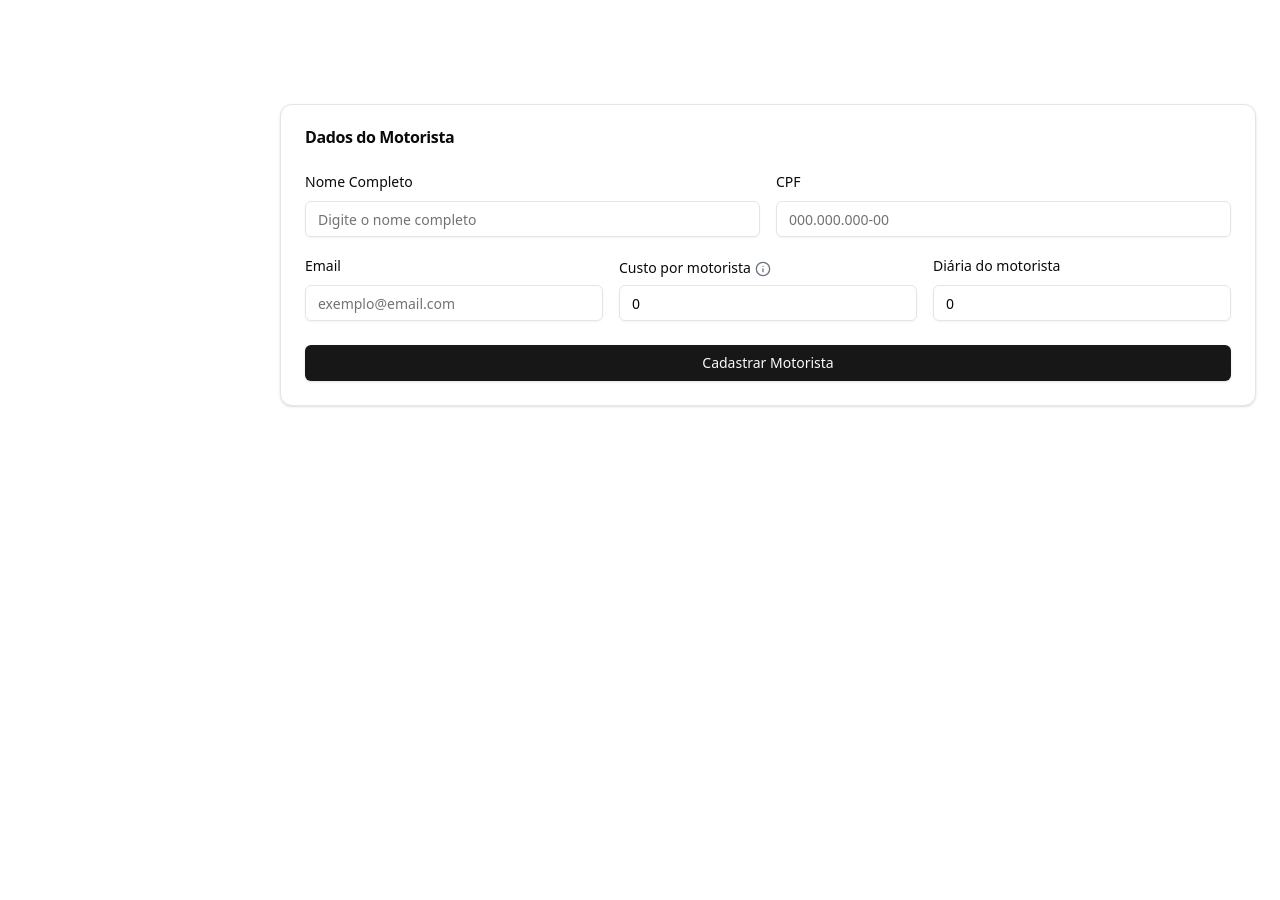
Test: DriverRegistrationForm › mostra erro se custo do motorista for zero
This screenshot has width=1280, height=900.
In the field labelled "Nome Completo": (532, 219) [305, 201, 760, 237], type "Ana"
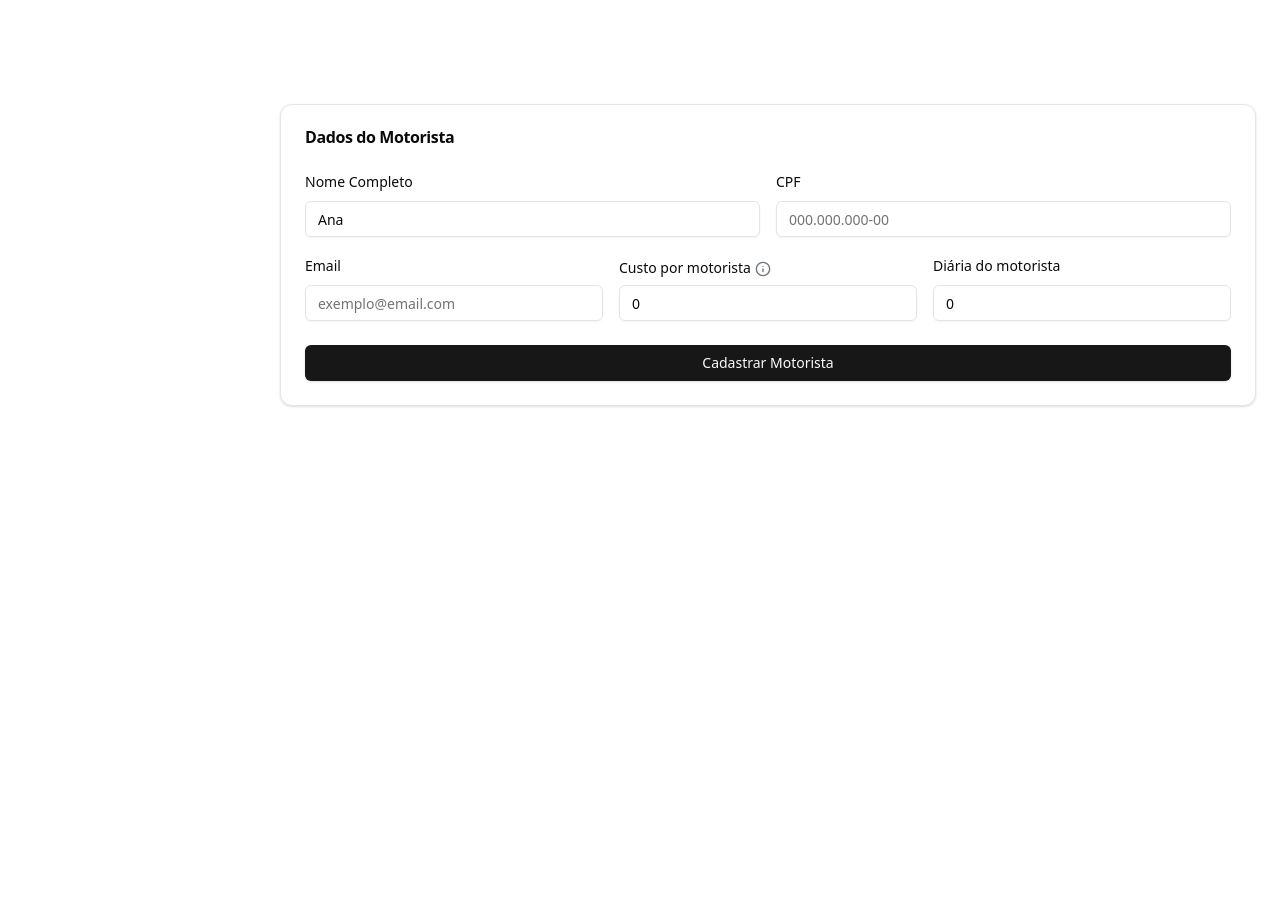
In the field labelled "CPF": (1004, 219) [776, 201, 1231, 237], type "12345678901"
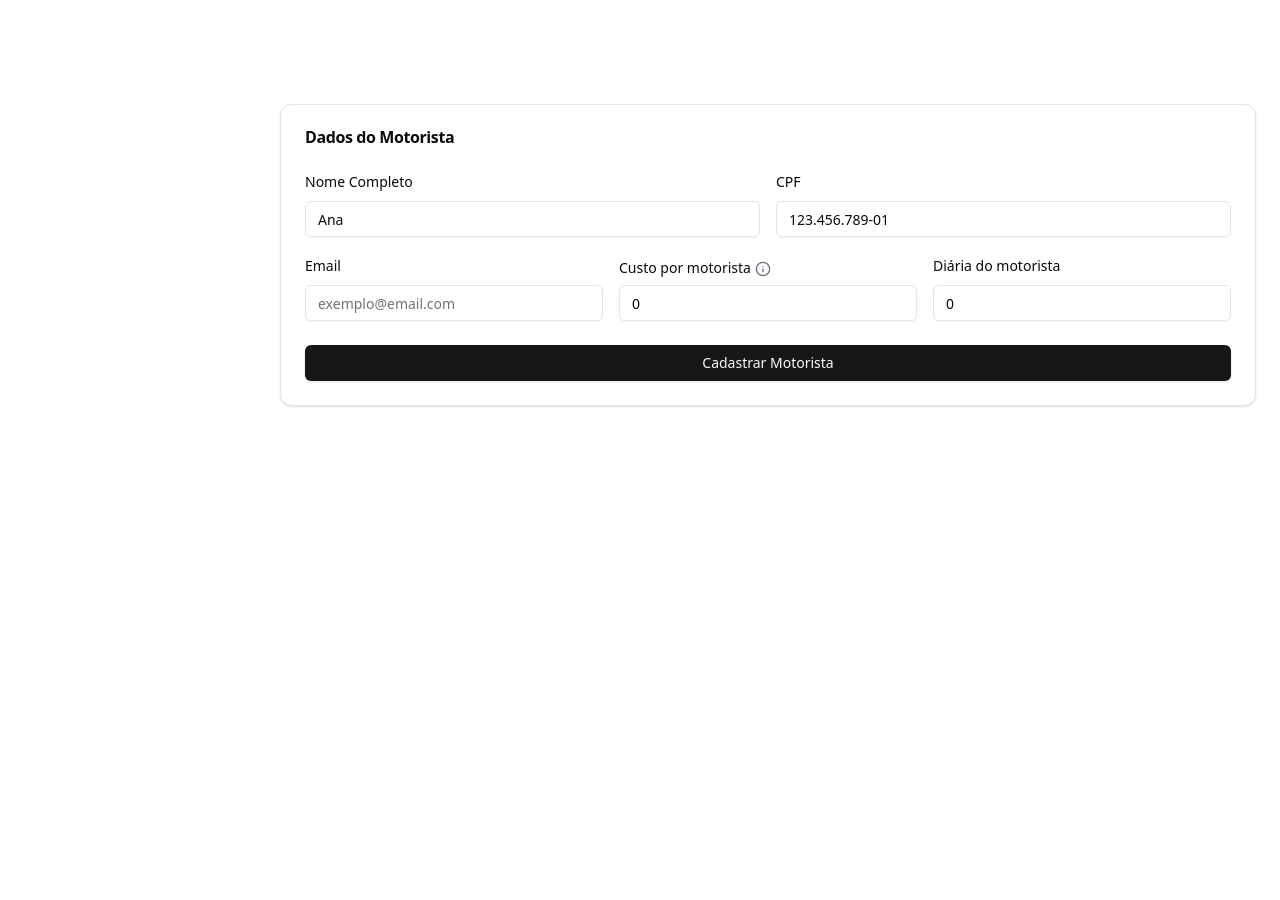
In the field labelled "Email": (454, 303) [305, 285, 603, 321], type "ana@email.com"
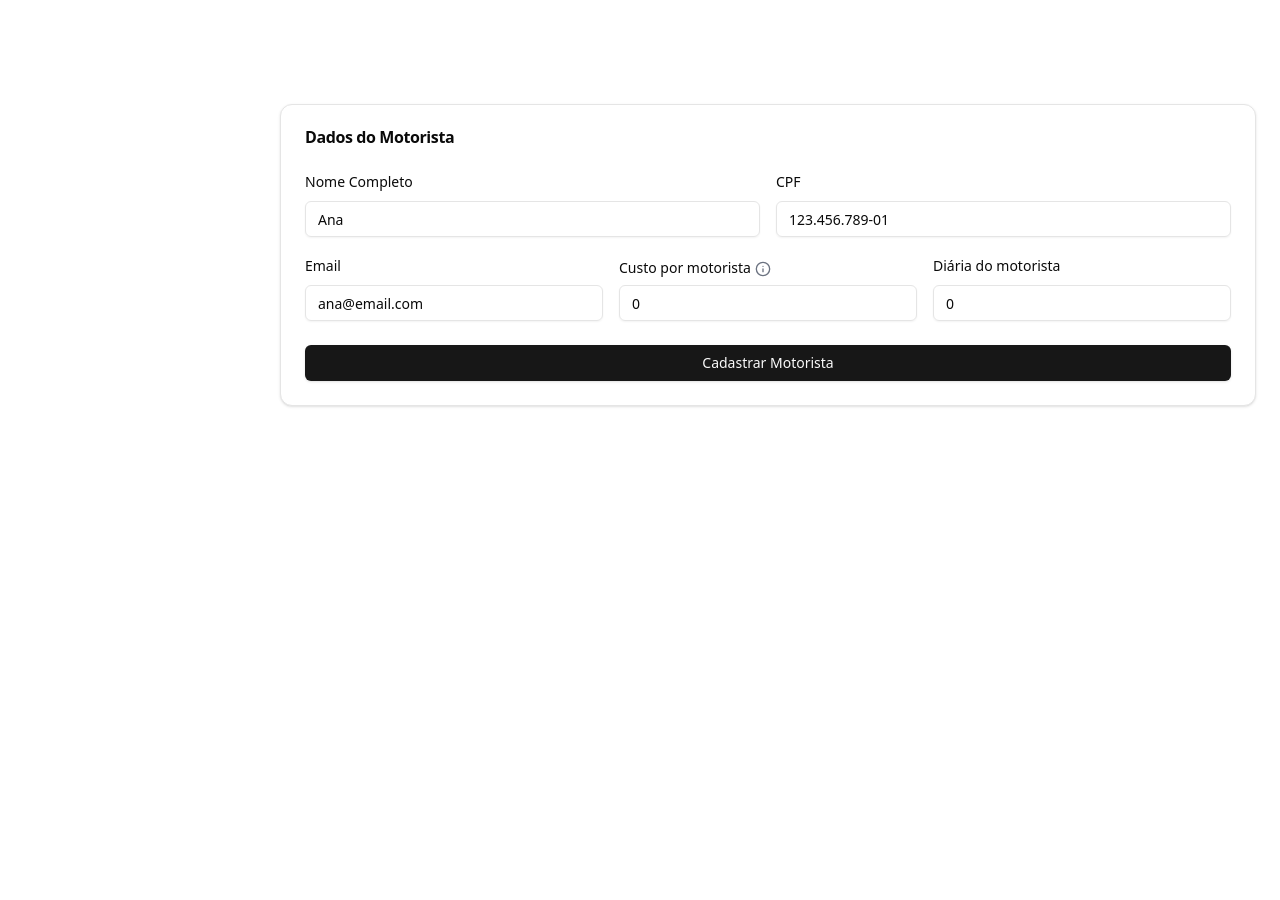
Click the button "Cadastrar Motorista": (768, 363) [305, 345, 1231, 381]
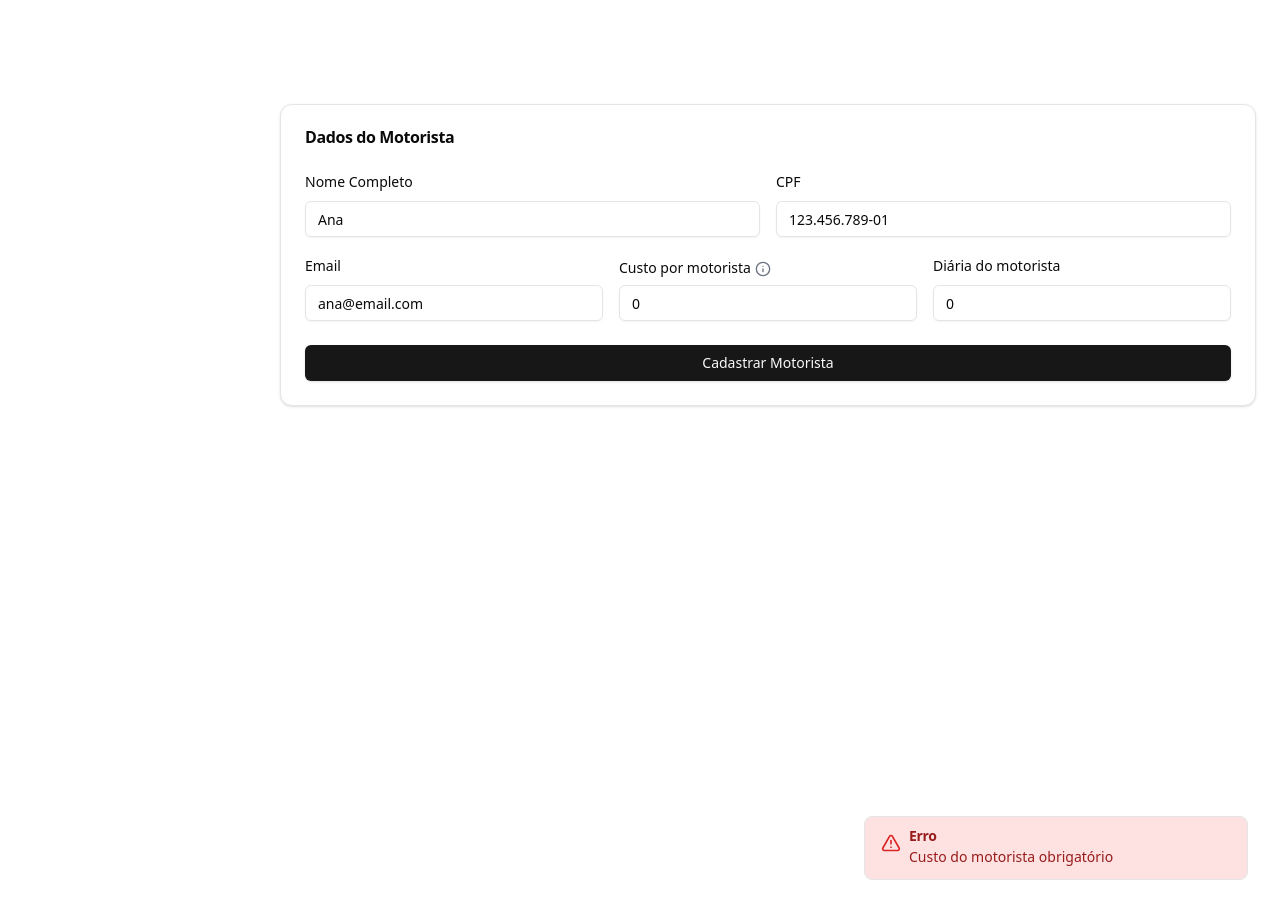
Check: the text "Custo do motorista obrigatório" is shown, box [909, 847, 1113, 866]
